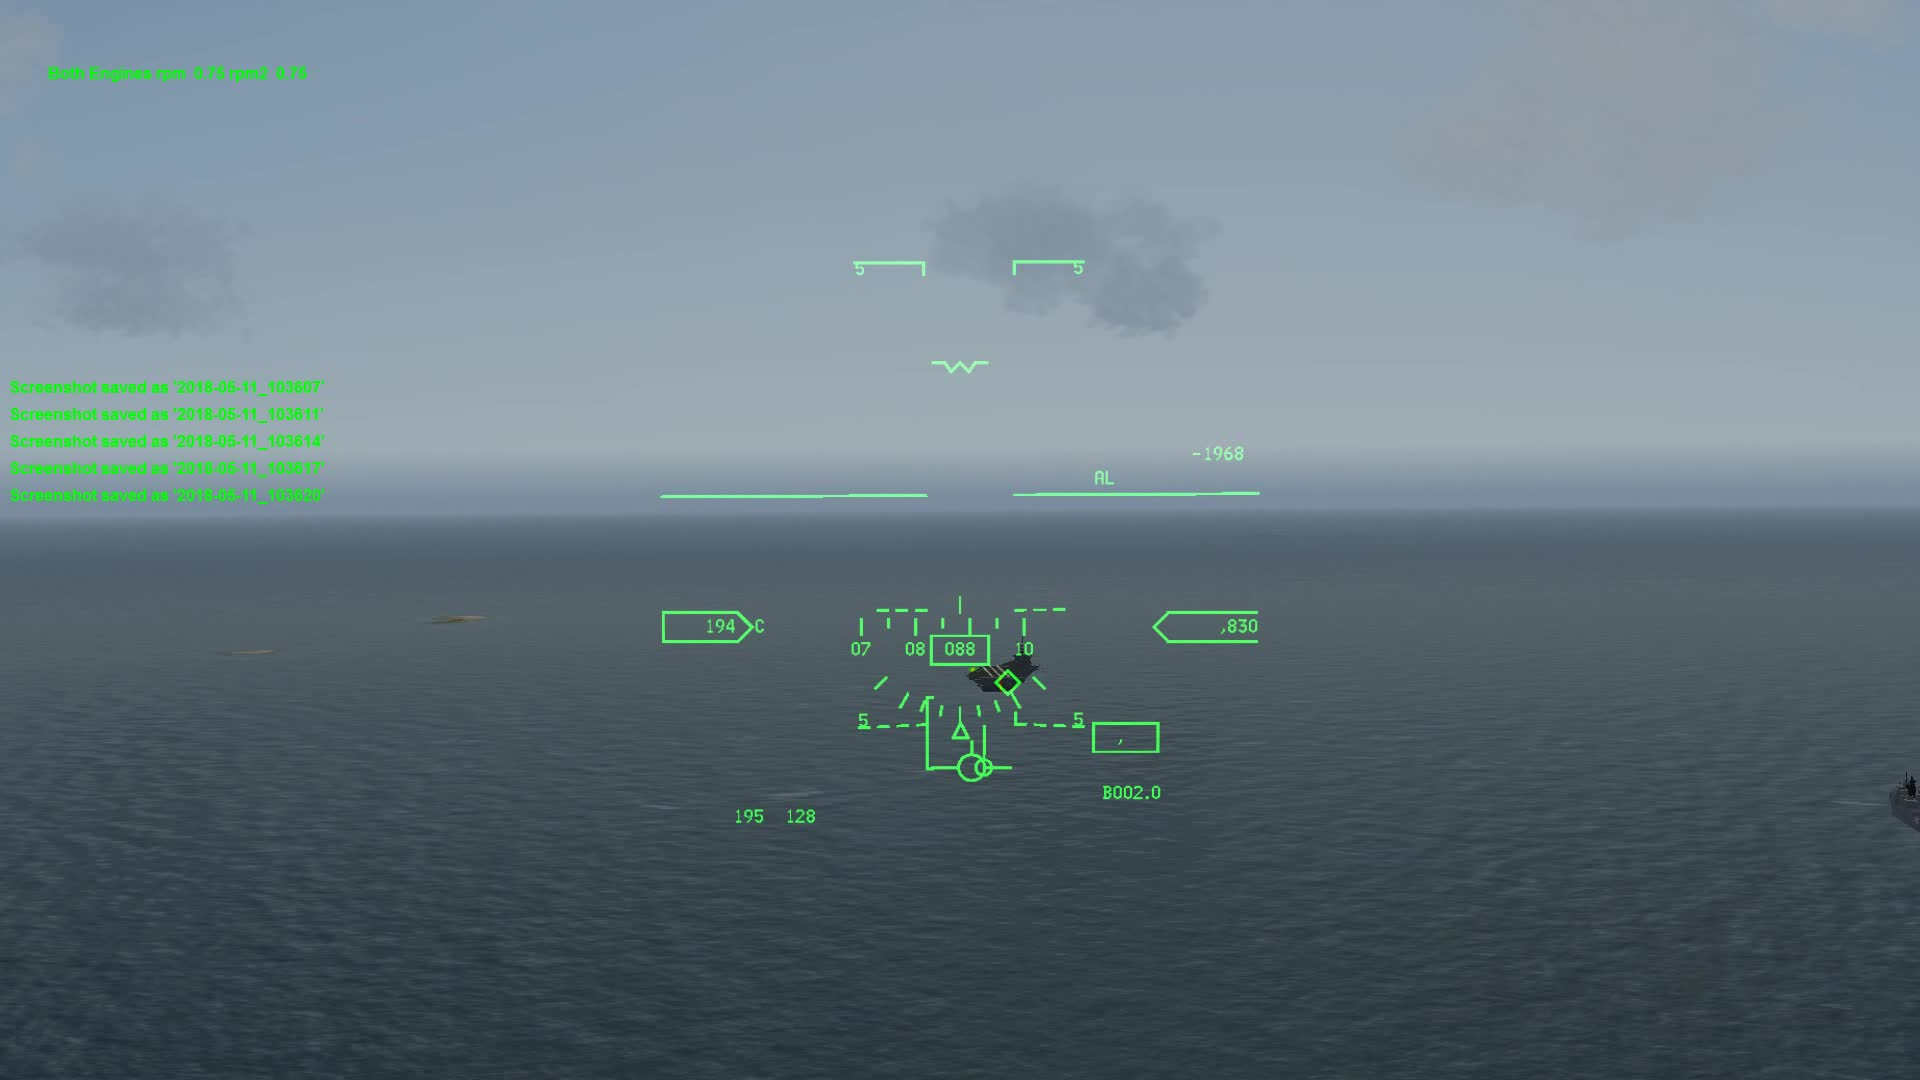speed vector: (932, 746, 1011, 783)
